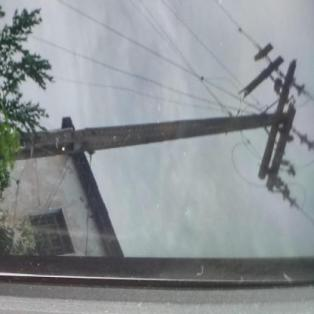Poste: (0, 105, 292, 166)
